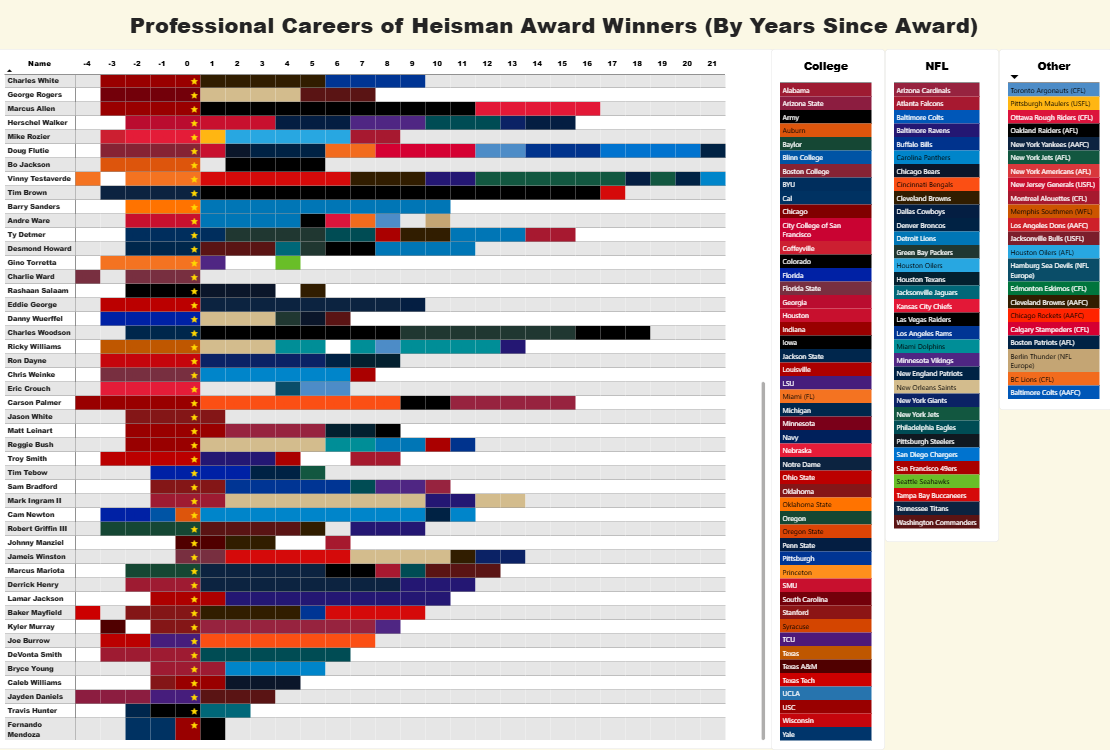

The page's visual inventory and layout, read from the dashboard file:
{"tool":"powerbi","page":{"name":"Left-Aligned View","canvas":[2233,1500],"ordinal":1},"visuals":[{"type":"pivotTable","fields":{"Columns":["heisman_winners_by_year.Years From Heisman"],"Rows":["heisman_winners_by_year.Name"],"Values":["heisman_winners_by_year.TeamDisplay"]},"box":[0,98,1556,1400],"z":0},{"type":"tableEx","fields":{"Values":["team_colors.Legend Name"]},"box":[1550,98,228,1402],"z":1000},{"type":"tableEx","fields":{"Values":["team_colors.Legend Name"]},"box":[1778,98,228,986],"z":2000},{"type":"tableEx","fields":{"Values":["team_colors.Legend Name"]},"box":[2006,98,228,722],"z":3000},{"type":"textbox","box":[2104,1330,228,170],"z":4000},{"type":"textbox","title":"Professional Careers of Heisman Award Winners (By Years Since Award)","box":[218,18,1796,80],"z":5000}]}

Visuals, with their boxes in screenshot pixels (x1, y1, x2, y2), scaled from the page's 2233x1500 canvas onto the 1110x750 screenshot:
pivotTable - heisman_winners_by_year.Years From Heisman x heisman_winners_by_year.Name: (0,49,773,749)
tableEx - team_colors.Legend Name: (770,49,884,749)
tableEx - team_colors.Legend Name: (884,49,997,542)
tableEx - team_colors.Legend Name: (997,49,1109,410)
textbox: (1046,665,1109,749)
"Professional Careers of Heisman Award Winners (By Years Since Award)" textbox: (108,9,1001,49)
